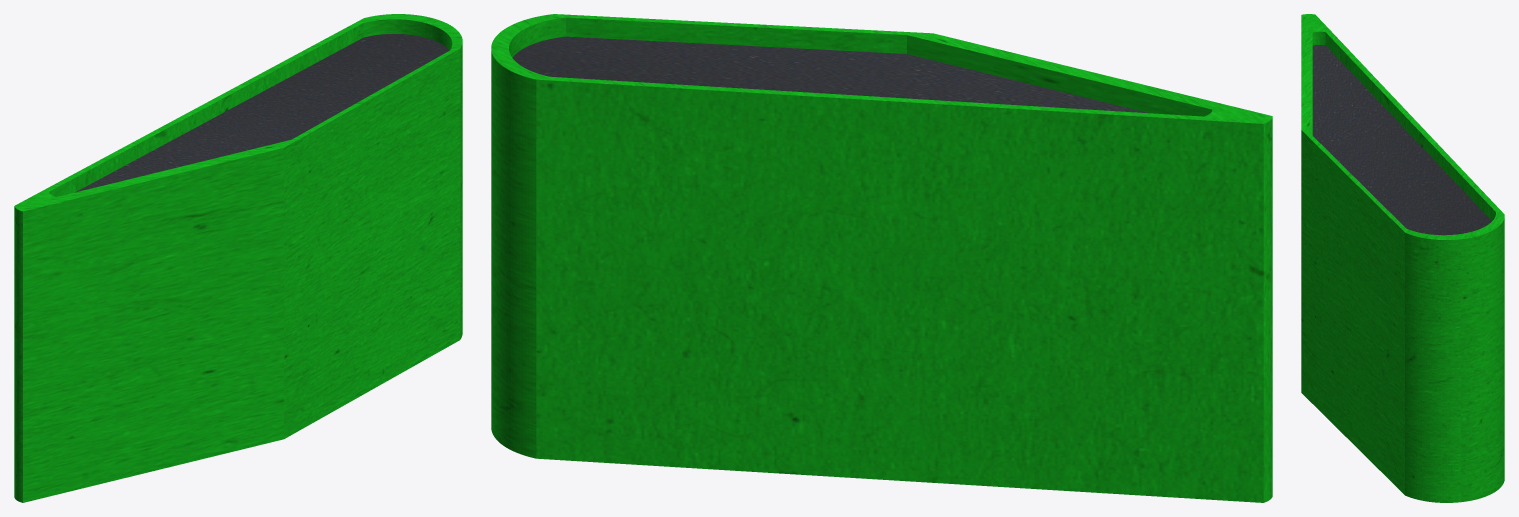
The model's file is RightFlipper.obj.
The picture shows the model from 3 angles, left to right: view 1: azimuth 30°, elevation 25°; view 2: azimuth 150°, elevation 25°; view 3: azimuth 270°, elevation 25°; orthographic projection. The views are drawn at different scales.
Visible parts, largest first — view 1: Cube.002_Cube.042, FlipperIn_Cube.025; view 2: Cube.002_Cube.042, FlipperIn_Cube.025; view 3: Cube.002_Cube.042, FlipperIn_Cube.025.
Boxes of the visible parts, x1=… form: Cube.002_Cube.042: x1=14, y1=14, x2=462, y2=502; FlipperIn_Cube.025: x1=75, y1=34, x2=449, y2=192; Cube.002_Cube.042: x1=491, y1=14, x2=1272, y2=502; FlipperIn_Cube.025: x1=512, y1=36, x2=1148, y2=113; Cube.002_Cube.042: x1=1301, y1=14, x2=1504, y2=502; FlipperIn_Cube.025: x1=1312, y1=45, x2=1491, y2=235.
Size of the model in its own units: 0.9223 by 0.5 by 0.3509.
Materials: 3 (3 with a texture image).
